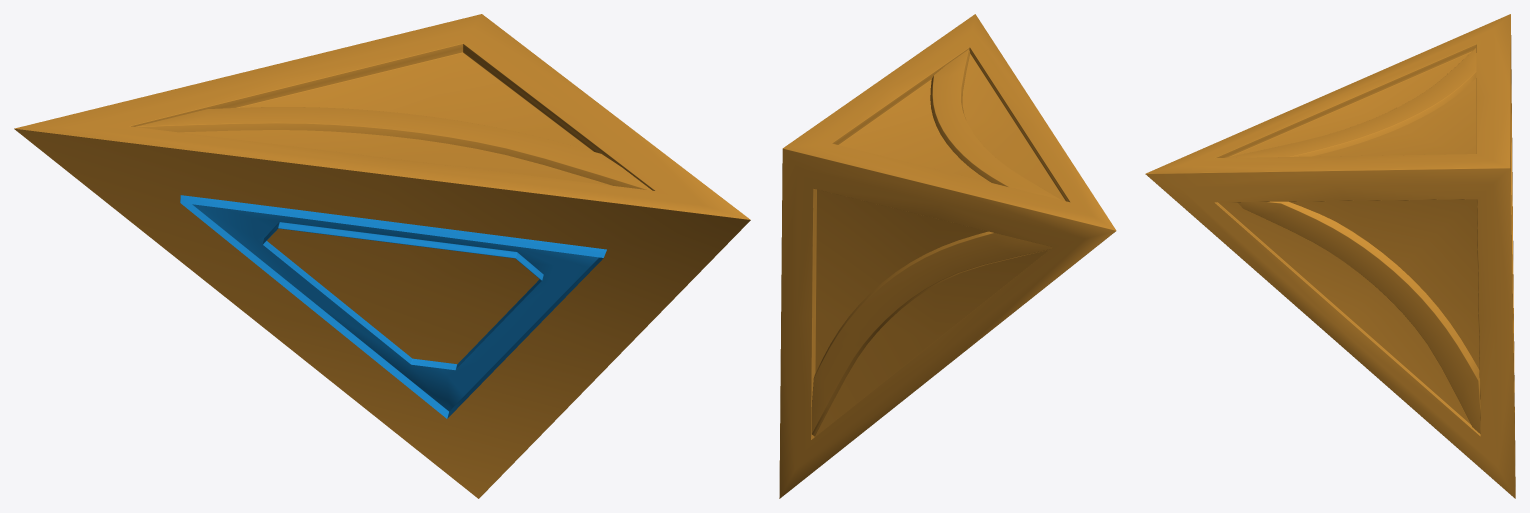
File: esquina_3.obj
The picture shows the model from 3 angles, left to right: view 1: azimuth 30°, elevation 25°; view 2: azimuth 150°, elevation 25°; view 3: azimuth 270°, elevation 25°; orthographic projection. The views are drawn at different scales.
Parts seen in each view (by area): view 1: esquina_3; view 2: esquina_3; view 3: esquina_3.
Boxes of the visible parts, box(x1,y1,x2,y2) form: esquina_3: box(14, 14, 750, 498); esquina_3: box(779, 14, 1116, 498); esquina_3: box(1145, 14, 1515, 498).
Bounding box in the file's own units: 5.18 × 5.13 × 5.2.
